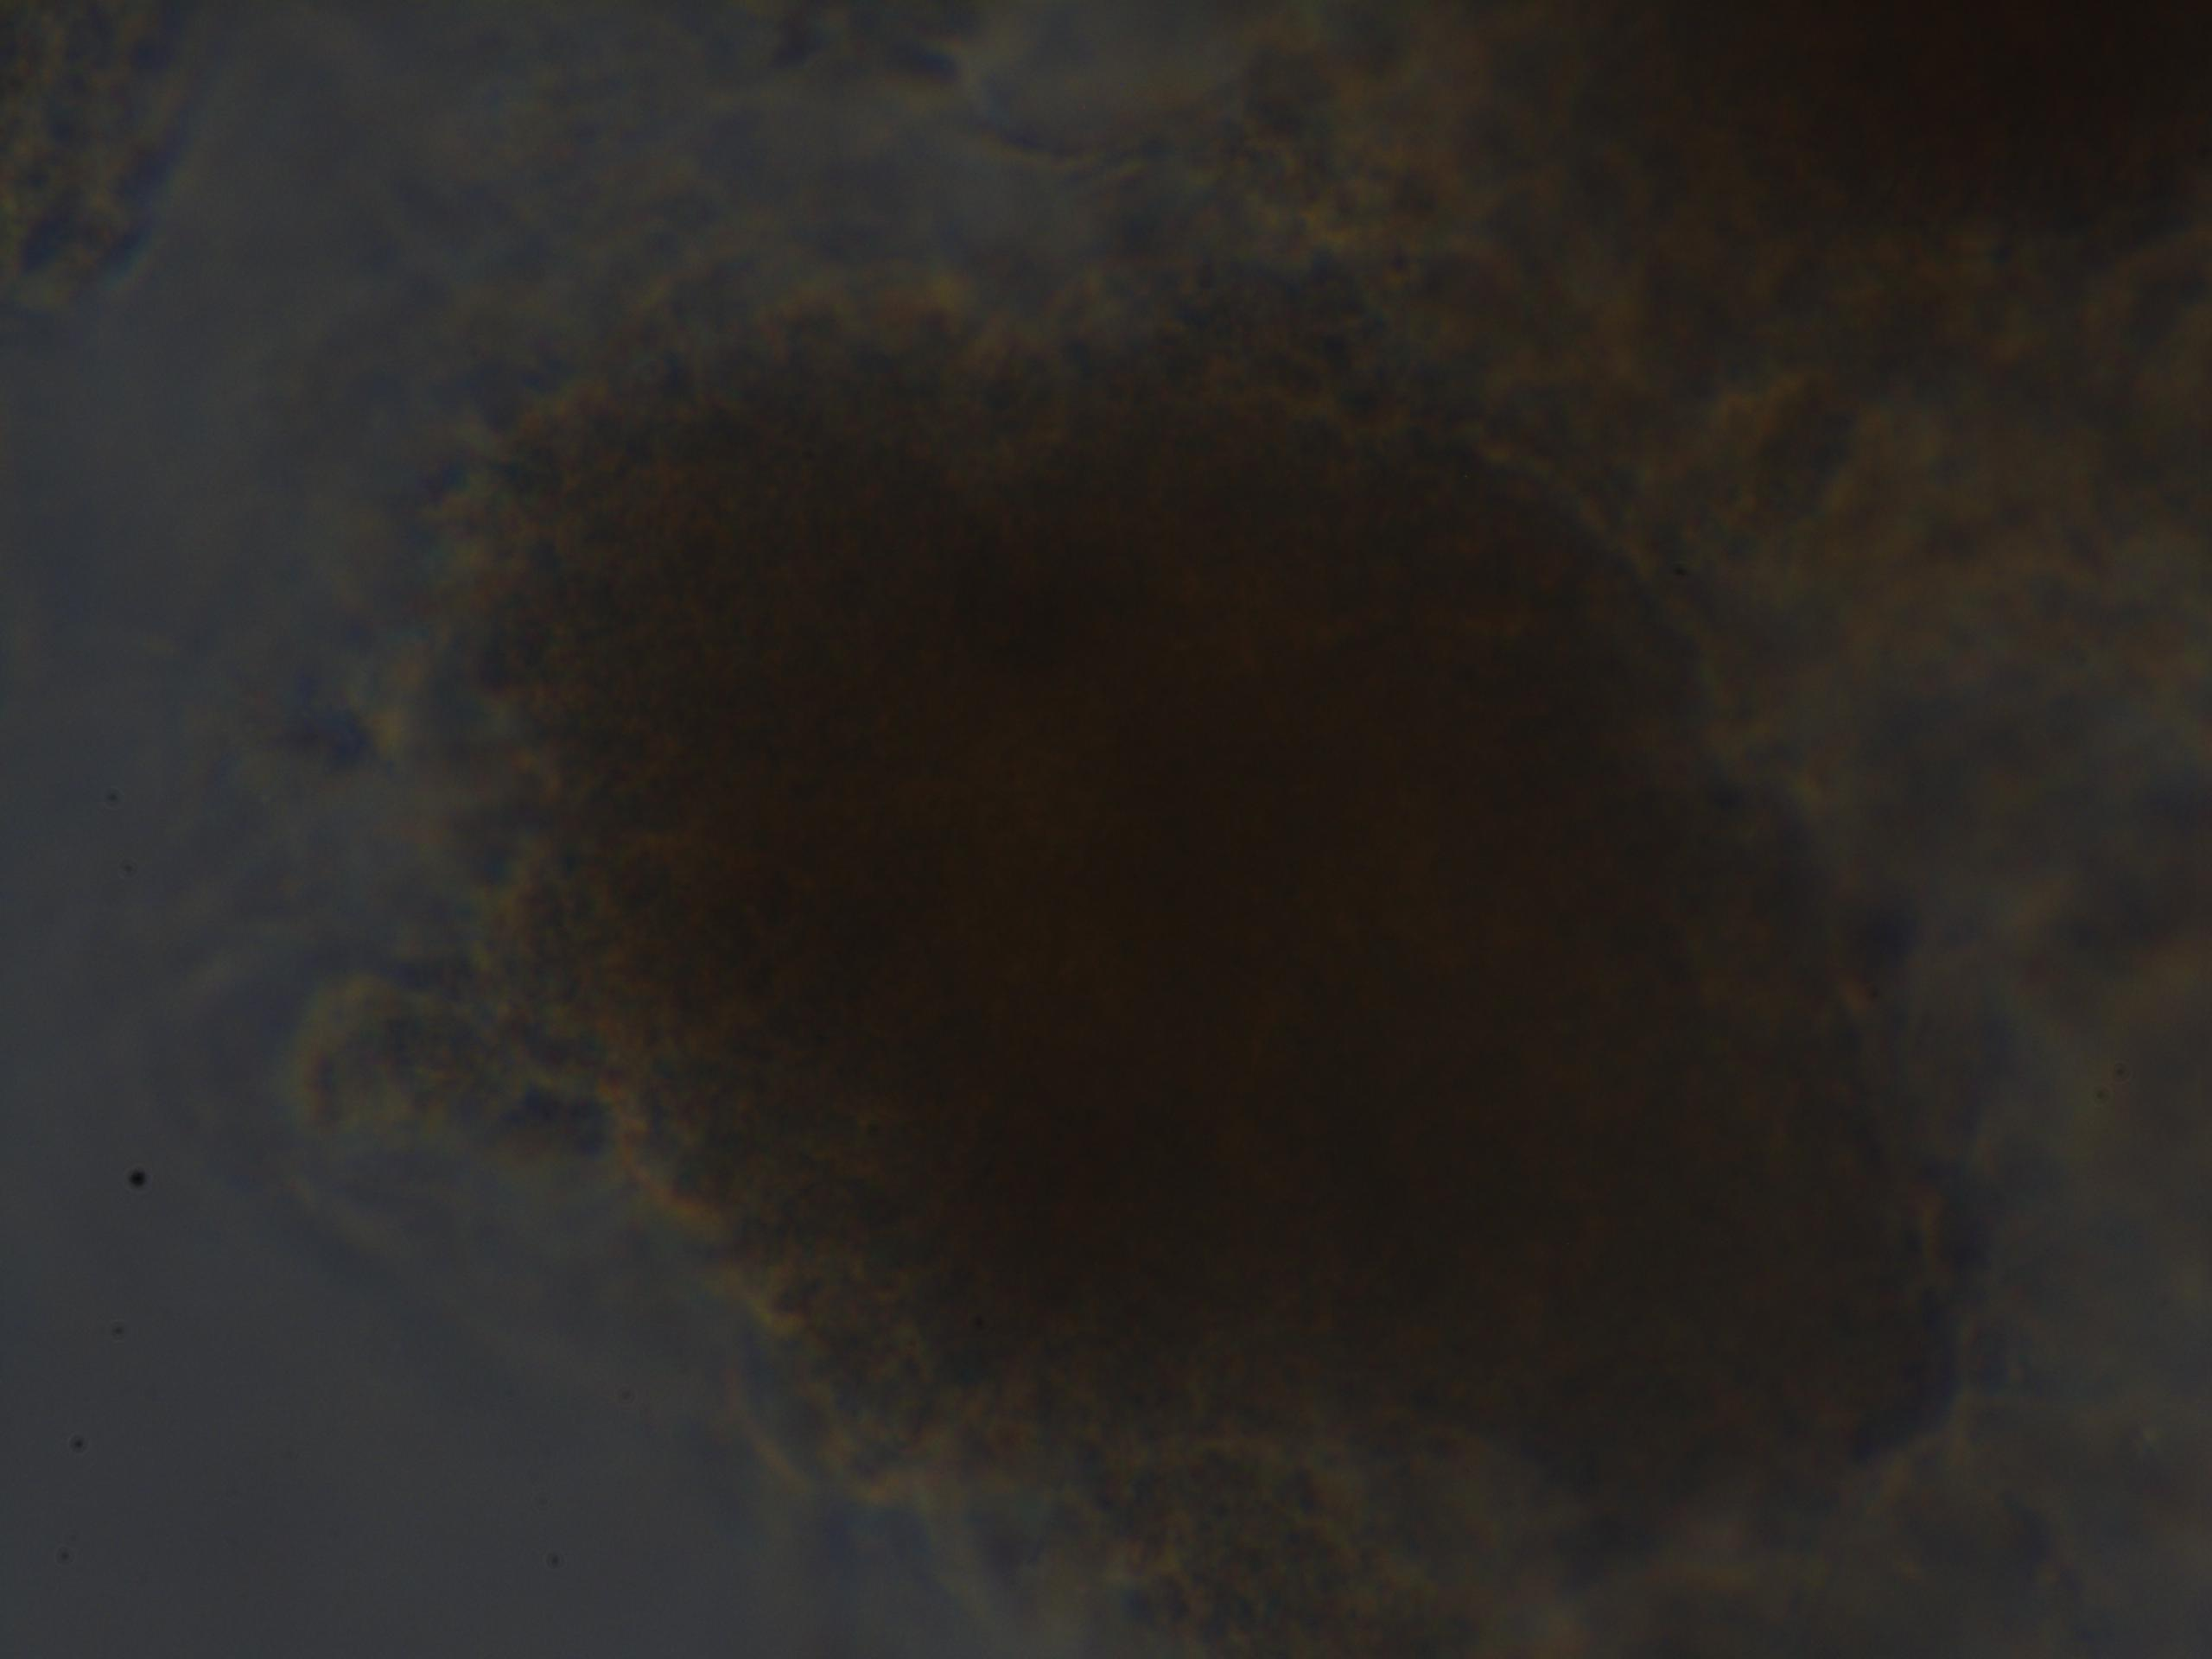spherical_floc: (474, 303, 2003, 1518)
